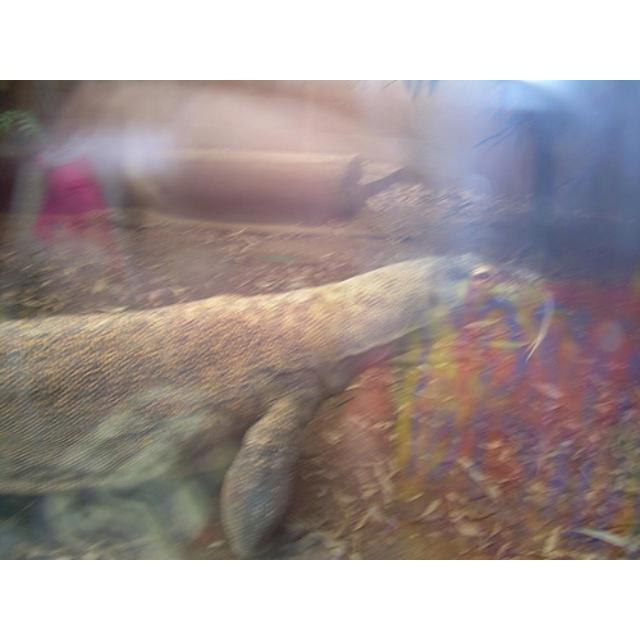KomodoDragon: (0, 247, 556, 555)
